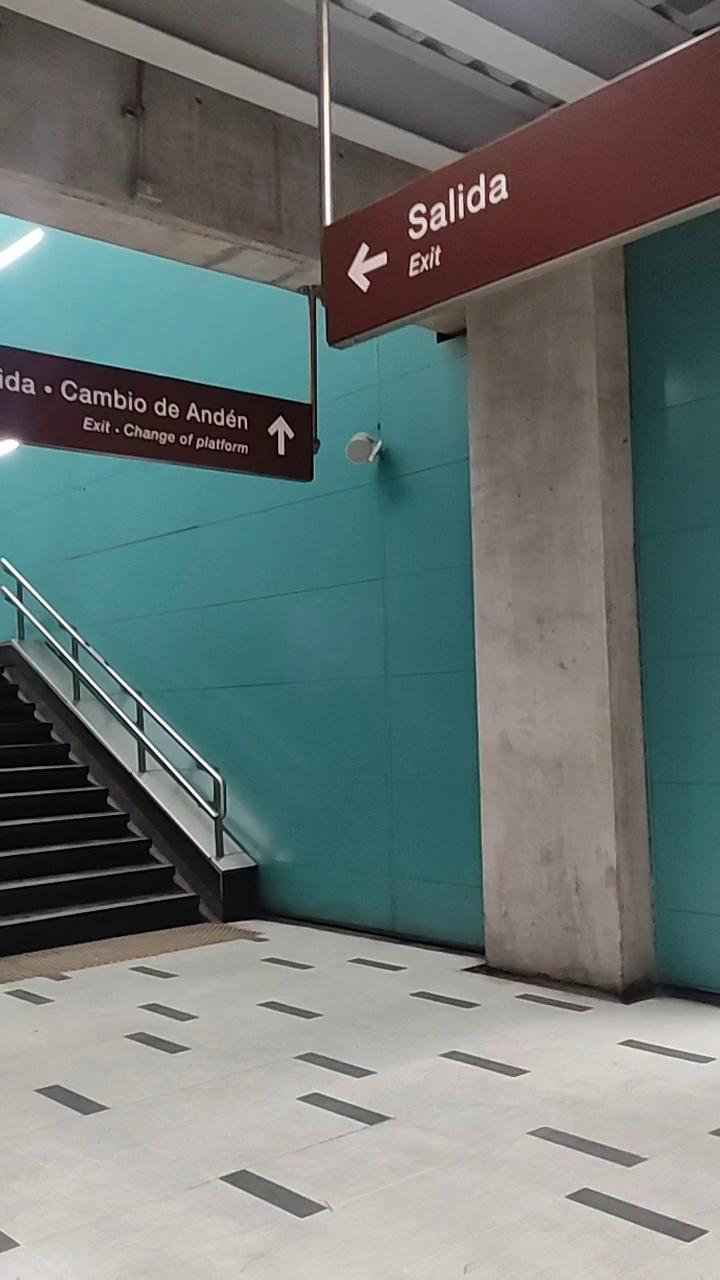left arrow: (339, 225, 399, 303)
up arrow: (268, 403, 298, 475)
